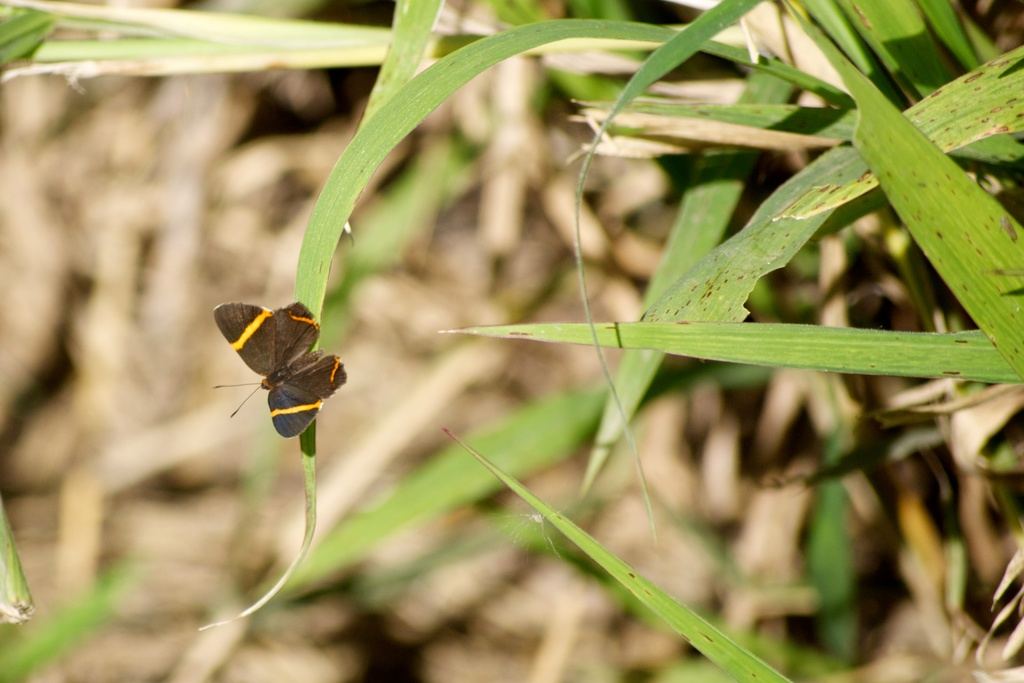Butterfly: (207, 299, 356, 440)
